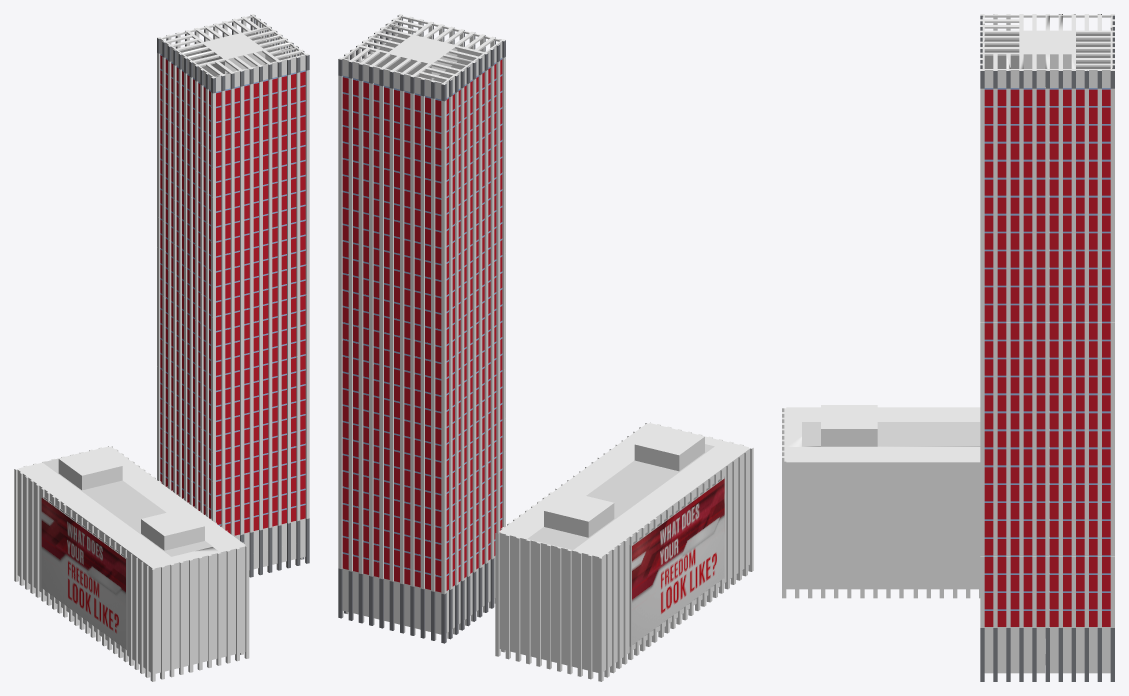
The picture shows the model from 3 angles, left to right: view 1: azimuth 30°, elevation 25°; view 2: azimuth 150°, elevation 25°; view 3: azimuth 270°, elevation 25°; orthographic projection. The views are drawn at different scales.
Visible parts, largest first — view 1: gedung 7, bb3, Plane; view 2: gedung 7, bb3, Plane; view 3: gedung 7, Plane.
Part boxes in pixels (bbox=[...]): gedung 7: bbox=[14, 14, 309, 681]; bb3: bbox=[41, 497, 127, 650]; Plane: bbox=[42, 452, 212, 556]; gedung 7: bbox=[338, 14, 753, 681]; bb3: bbox=[629, 476, 724, 646]; Plane: bbox=[527, 444, 714, 549]; gedung 7: bbox=[782, 14, 1114, 681]; Plane: bbox=[802, 422, 980, 446].
Size of the model in its own units: 20.63 by 41.78 by 20.62.
10 materials, 1 textured.
